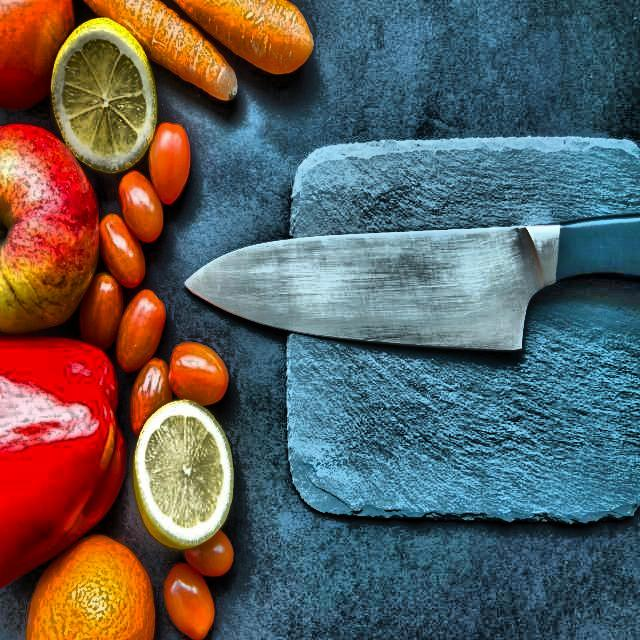knife: (180, 227, 640, 372)
